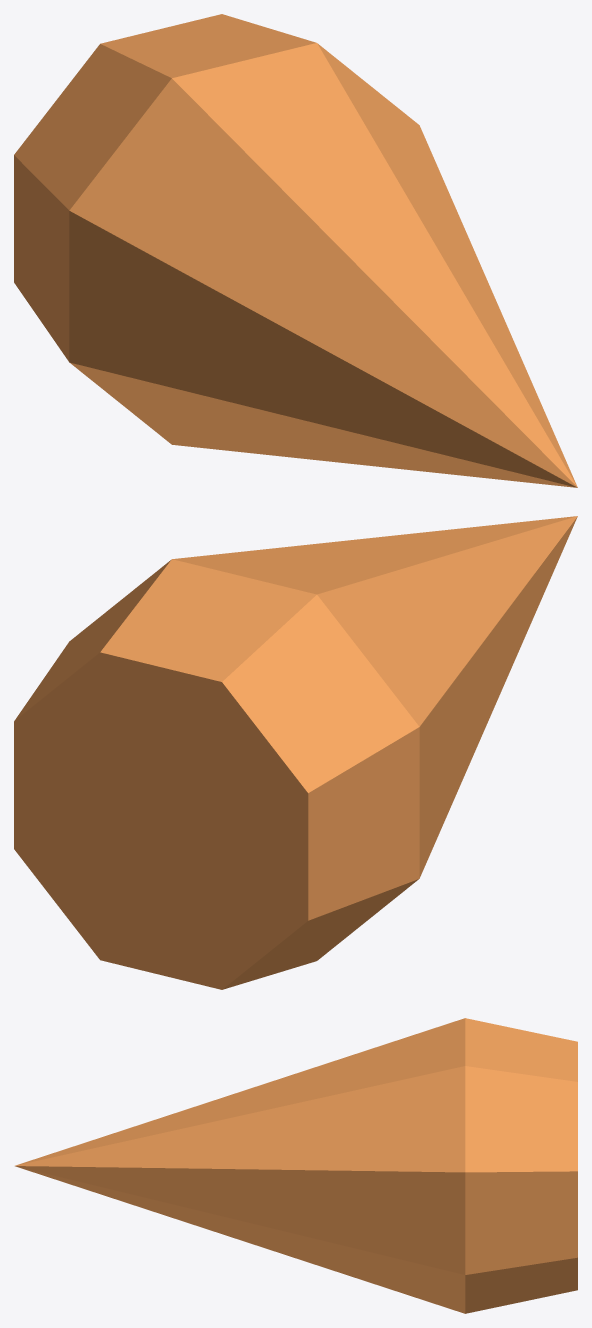
The model's file is S_RocketFlame.fbx.
3 renders of one model, top to bottom at view 1: azimuth 30°, elevation 25°; view 2: azimuth 150°, elevation 25°; view 3: azimuth 270°, elevation 25°, orthographic. The views are drawn at different scales.
Visible parts, largest first — view 1: S_RocketFlame; view 2: S_RocketFlame; view 3: S_RocketFlame.
Boxes of the visible parts, box(x1,y1,x2,y2) form: S_RocketFlame: box(14, 14, 577, 487); S_RocketFlame: box(14, 516, 577, 989); S_RocketFlame: box(15, 1018, 577, 1313).
Size of the model in its own units: 0.1455 by 0.1455 by 0.3.
